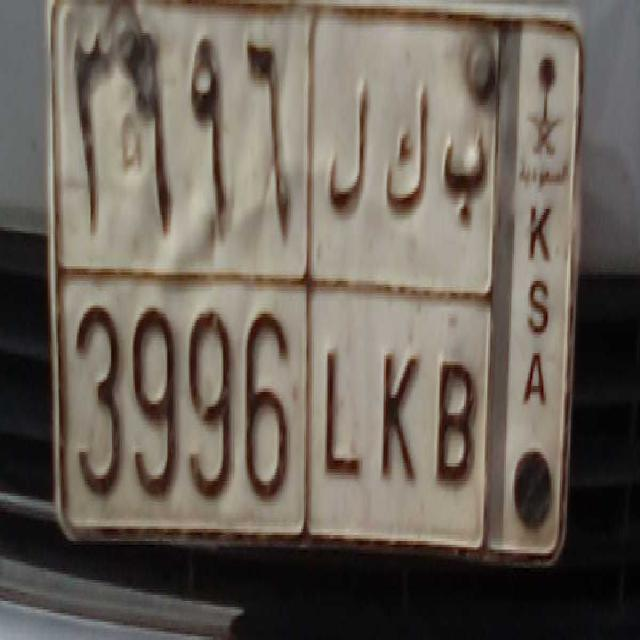license_plate: (53, 260, 488, 542)
